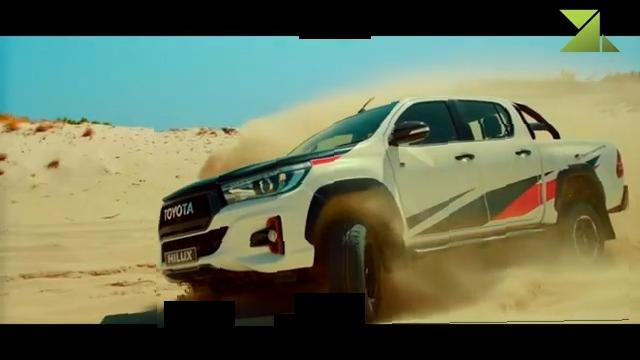MIL_HMMWV: (155, 96, 629, 327)
